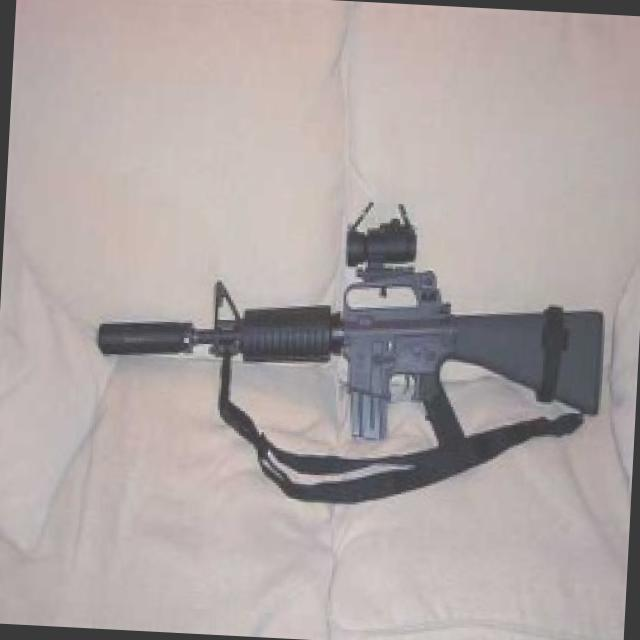long weapon: (69, 172, 617, 474)
